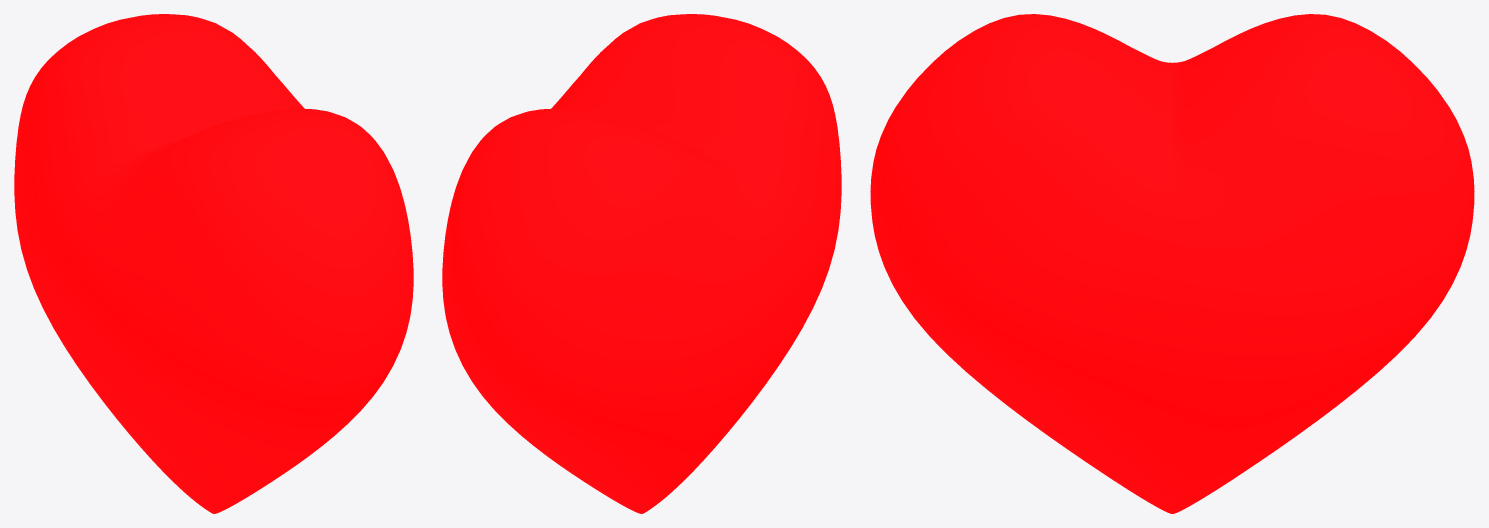
File: Heart.fbx
3 views of the same model, side by side, from view 1: azimuth 30°, elevation 25°; view 2: azimuth 150°, elevation 25°; view 3: azimuth 270°, elevation 25° (orthographic). The views are drawn at different scales.
Visible parts, largest first — view 1: Cube; view 2: Cube; view 3: Cube.
Boxes of the visible parts, <box> form: Cube: <box>14,14,413,513</box>; Cube: <box>442,14,841,513</box>; Cube: <box>870,14,1474,513</box>.
Bounding box in the file's own units: 181 × 260 × 296.
